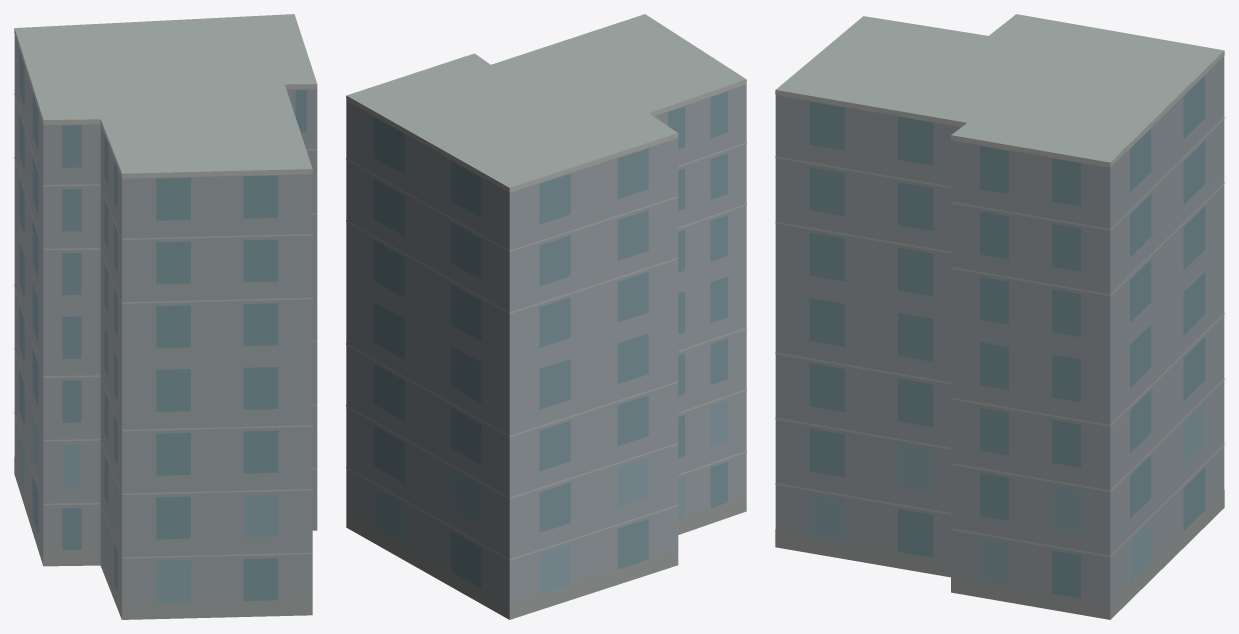
Rendered from survey-upis-32568423.glb.
3 renders of one model, left to right at view 1: azimuth 30°, elevation 25°; view 2: azimuth 150°, elevation 25°; view 3: azimuth 270°, elevation 25°, orthographic. The views are drawn at different scales.
Visible parts, largest first — view 1: survey-upis-32568423.tmp; view 2: survey-upis-32568423.tmp; view 3: survey-upis-32568423.tmp.
Boxes of the visible parts, x1,y1,x2,y2 form: survey-upis-32568423.tmp: [14, 14, 317, 619]; survey-upis-32568423.tmp: [346, 14, 746, 619]; survey-upis-32568423.tmp: [775, 14, 1224, 619].
Size of the model in its own units: 15.07 by 21.6 by 19.24.
